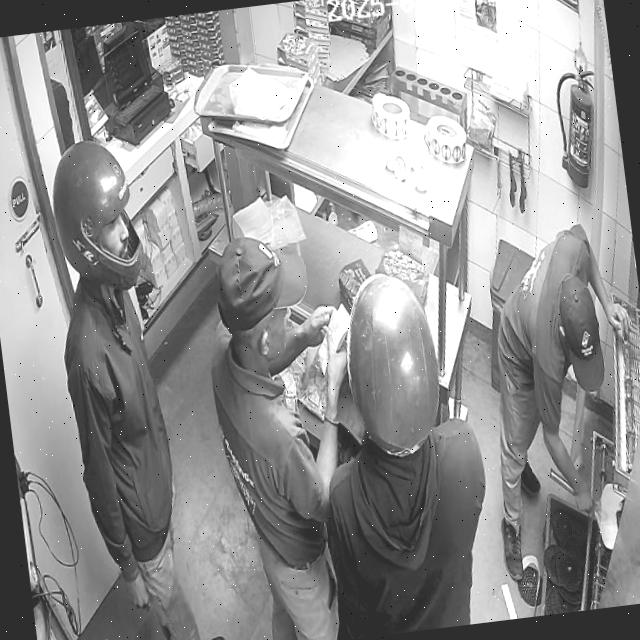helmet: (347, 272, 439, 455), (52, 140, 147, 288)
no_helmet: (213, 235, 307, 375), (560, 277, 604, 390)
